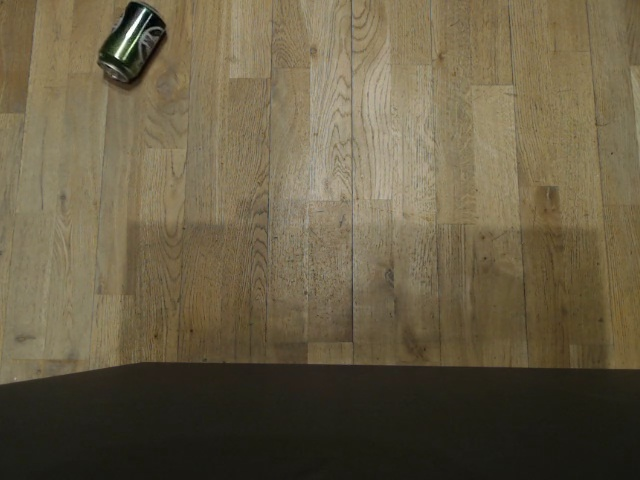beer: (91, 0, 168, 87)
